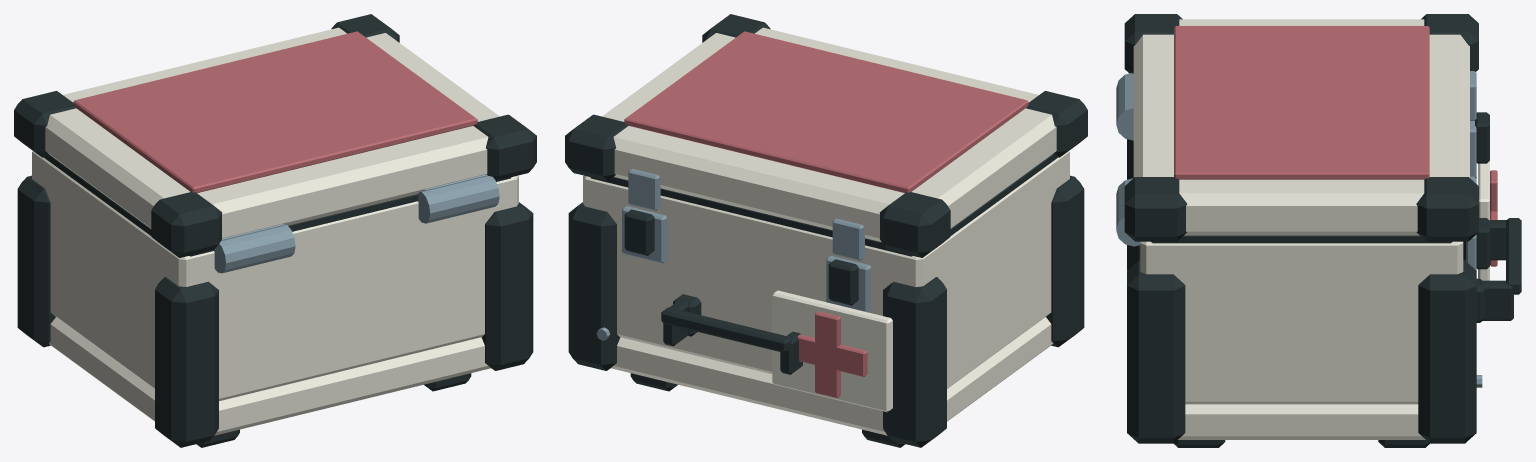
Rendered from field_medical_chest.glb.
The picture shows the model from 3 angles, left to right: view 1: azimuth 30°, elevation 25°; view 2: azimuth 150°, elevation 25°; view 3: azimuth 270°, elevation 25°; orthographic projection. The views are drawn at different scales.
Visible parts, largest first — view 1: body_back_wall, moving_lid_inset, moving_lid_shell, corner_guard (×3), body_left_wall, body_floor, moving_lid_corner (×4), hinge_body (×2), gasket_back, gasket_side, body_right_wall; view 2: moving_lid_inset, moving_lid_shell, body_front_wall, corner_guard (×3), body_left_wall, body_floor, moving_lid_corner (×4), front_identity_panel, latch_release (×2), moving_latch_hook (×2), carry_handle_bar, latch_mount (×2) (+7 smaller); view 3: body_right_wall, moving_lid_inset, moving_lid_shell, corner_guard (×3), moving_lid_corner (×4), body_floor, gasket_side, hinge_body (×2), latch_release (×2), carry_handle_right, carry_handle_bar, front_identity_panel (+1 smaller).
Part boxes in pixels (x1,y1,x2,y2): body_back_wall: (170,177,516,400); moving_lid_inset: (73,31,477,192); moving_lid_shell: (45,27,499,238); corner_guard (×3): (17,175,533,447); body_left_wall: (32,151,200,388); body_floor: (48,317,490,435); moving_lid_corner (×4): (14,14,536,257); hinge_body (×2): (214,176,499,273); gasket_back: (189,177,511,256); gasket_side: (44,154,151,235); body_right_wall: (502,175,518,209); moving_lid_inset: (624,31,1028,192); moving_lid_shell: (602,27,1056,241); body_front_wall: (585,176,931,373); corner_guard (×3): (568,175,1084,447); body_left_wall: (901,151,1069,388); body_floor: (611,317,1053,435); moving_lid_corner (×4): (565,14,1087,257); front_identity_panel: (772,290,892,412); latch_release (×2): (624,209,858,305); moving_latch_hook (×2): (628,168,864,260); carry_handle_bar: (661,307,791,352); latch_mount (×2): (622,206,871,312); body_right_wall: (1140,241,1463,404); moving_lid_inset: (1174,26,1429,179); moving_lid_shell: (1133,19,1469,235); corner_guard (×3): (1127,139,1476,443); moving_lid_corner (×4): (1124,14,1478,241); body_floor: (1178,404,1425,439); gasket_side: (1151,235,1452,243); hinge_body (×2): (1116,73,1140,246); latch_release (×2): (1475,112,1489,269); carry_handle_right: (1480,280,1513,320); carry_handle_bar: (1506,218,1521,294); front_identity_panel: (1478,161,1489,280).
Size of the model in its own units: 1 by 0.6895 by 0.9045.
